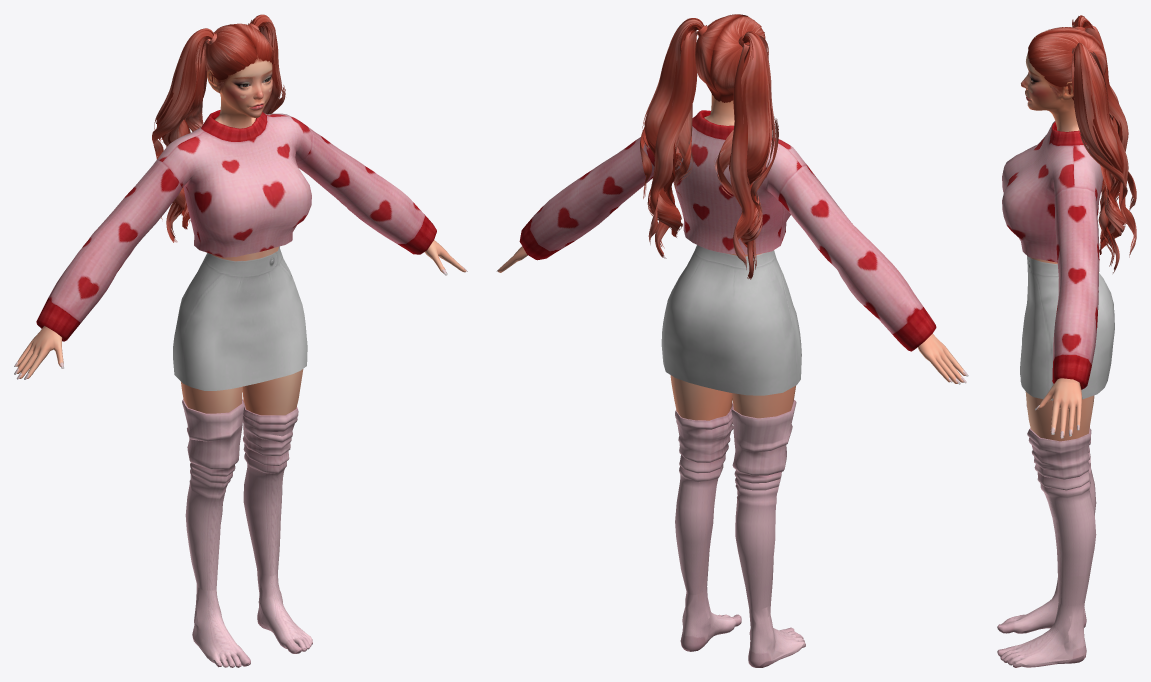
The model's file is Veido.fbx.
3 views of the same model, side by side, from view 1: azimuth 30°, elevation 25°; view 2: azimuth 150°, elevation 25°; view 3: azimuth 270°, elevation 25° (orthographic). The views are drawn at different scales.
Visible parts, largest first — view 1: VeiDo; view 2: VeiDo; view 3: VeiDo.
Boxes of the visible parts, left/top/right/bottom form: VeiDo: left=14, top=14, right=467, bottom=667; VeiDo: left=496, top=14, right=968, bottom=667; VeiDo: left=997, top=15, right=1136, bottom=667.
Bounding box in the file's own units: 143 × 186 × 38.09.
1 material, 1 textured.
